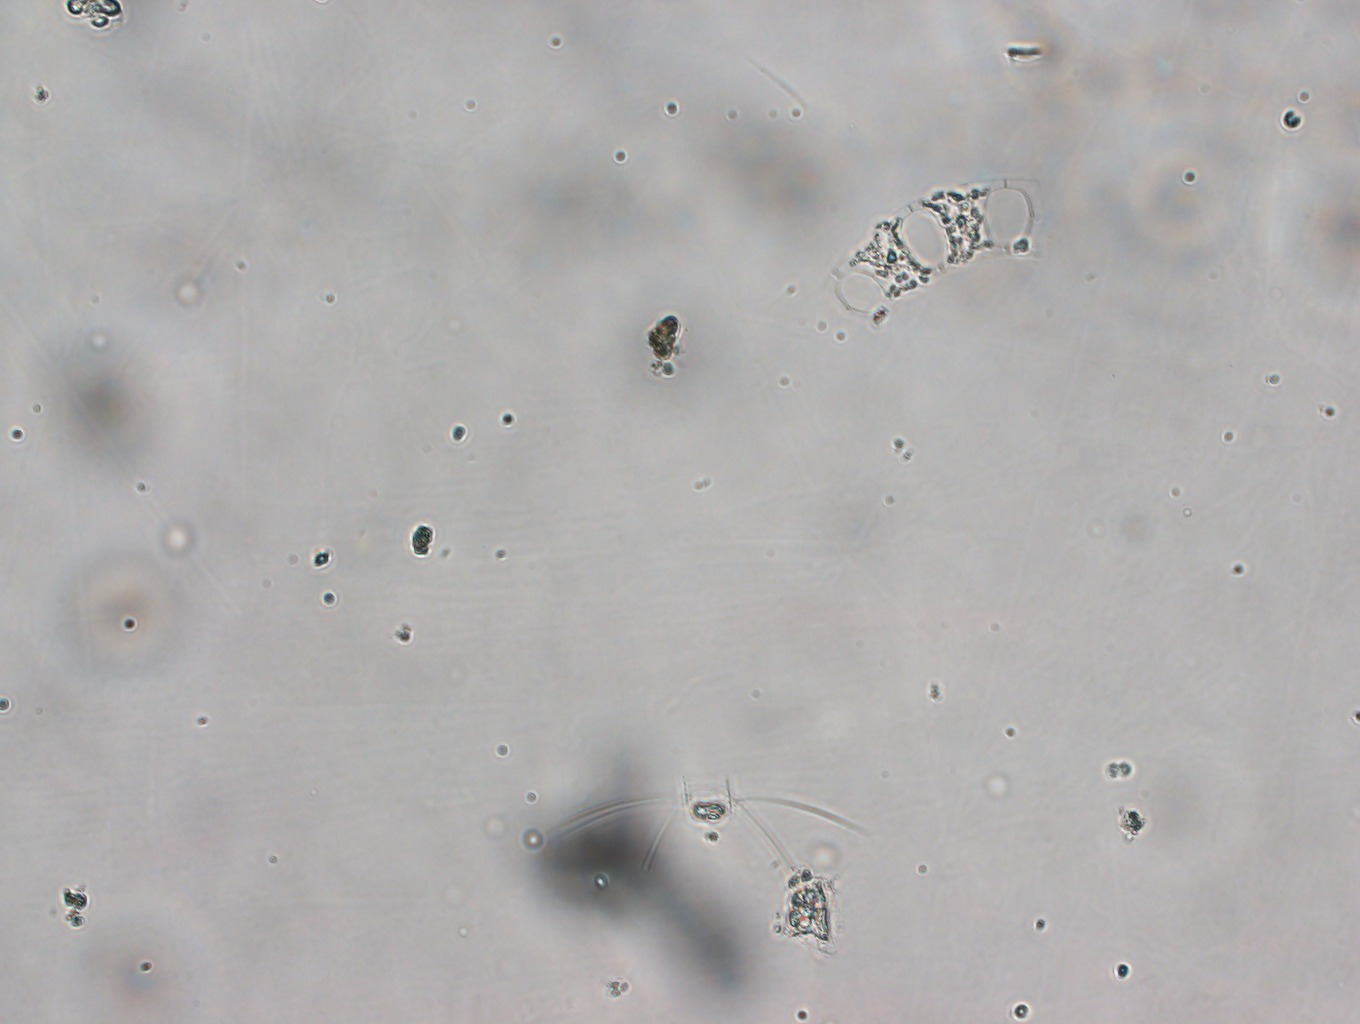chaetoceros: (552, 765, 872, 893)
eucampia: (803, 158, 1049, 337)
